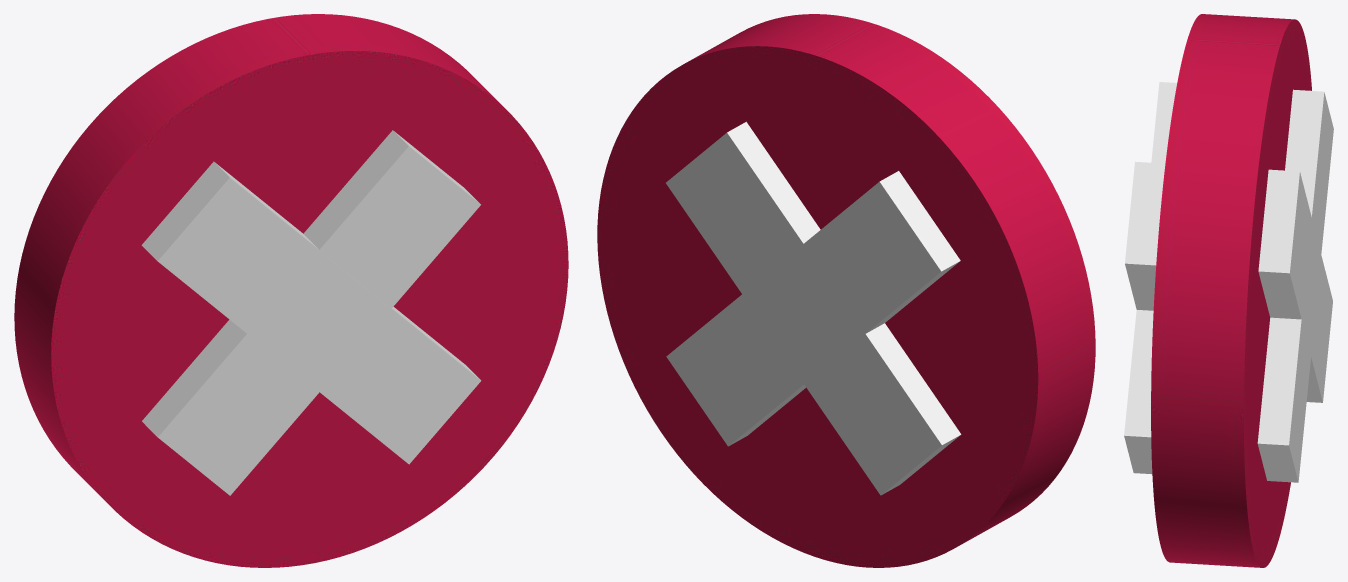
The model's file is close.glb.
The picture shows the model from 3 angles, left to right: view 1: azimuth 30°, elevation 25°; view 2: azimuth 150°, elevation 25°; view 3: azimuth 270°, elevation 25°; orthographic projection. The views are drawn at different scales.
Parts seen in each view (by area): view 1: X_button_X button_0; view 2: X_button_X button_0; view 3: X_button_X button_0.
Boxes of the visible parts, x1,y1,x2,y2 form: X_button_X button_0: (14, 14, 568, 567); X_button_X button_0: (597, 14, 1095, 567); X_button_X button_0: (1124, 14, 1333, 567).
Size of the model in its own units: 1 by 0.9917 by 0.3785.
Materials: 1 (1 with a texture image).
